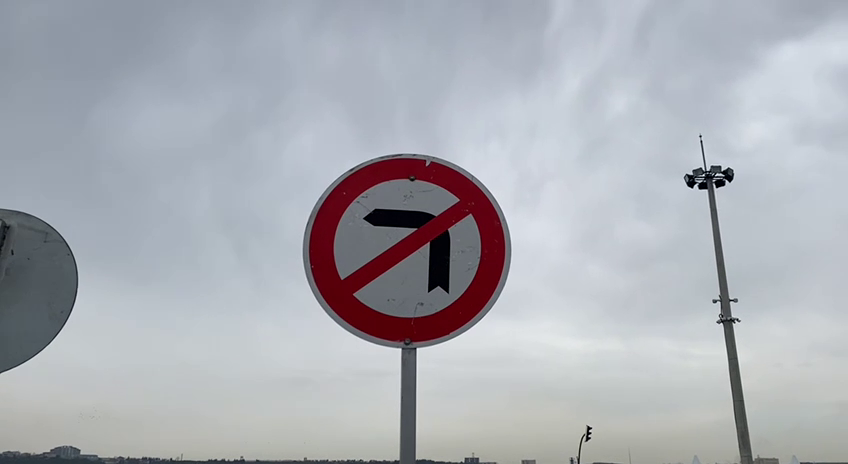noTurnLeft: (298, 151, 516, 351)
